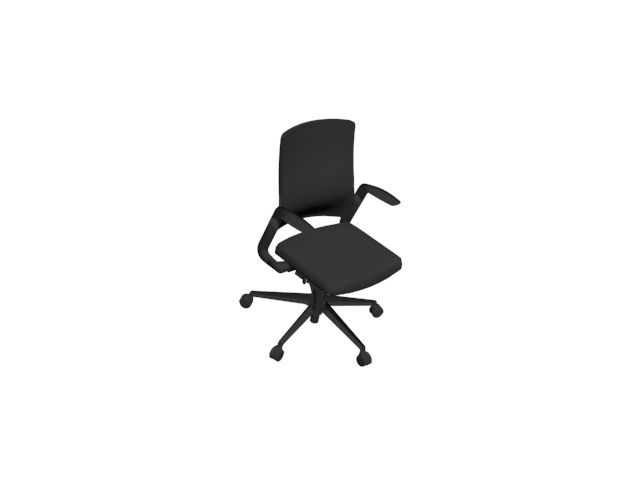desk_chair: (233, 113, 408, 368)
